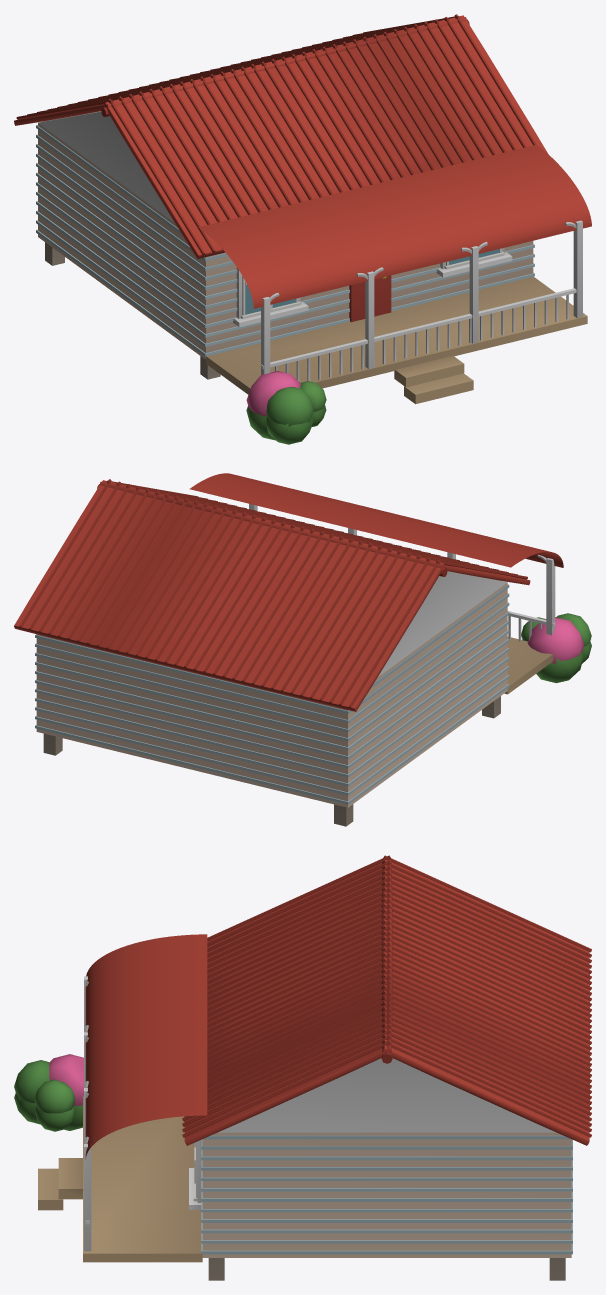
File: hs-epoqd.glb
3 renders of one model, top to bottom at view 1: azimuth 30°, elevation 25°; view 2: azimuth 150°, elevation 25°; view 3: azimuth 270°, elevation 25°, orthographic. The views are drawn at different scales.
Bounding box in the file's own units: 10 × 6.25 × 12.54.
